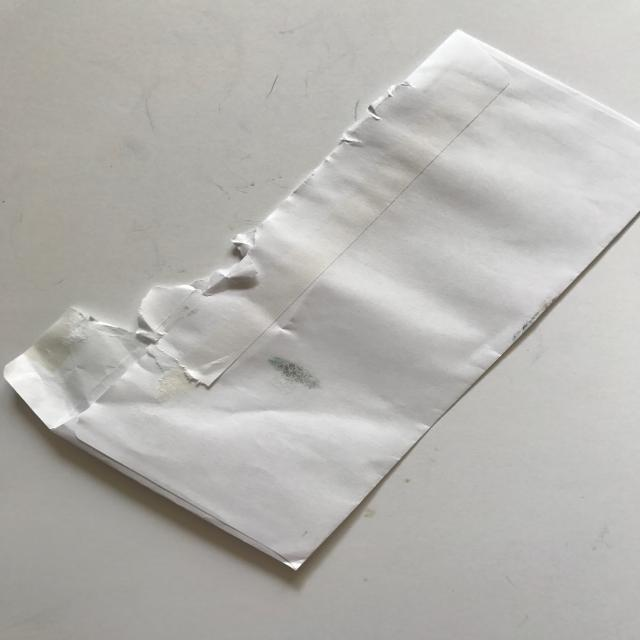paper: (3, 27, 640, 576)
